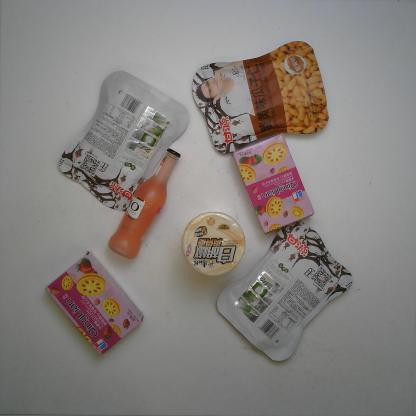Alcohol: (109, 148, 182, 259)
Dessert: (44, 250, 145, 356), (231, 132, 315, 235)
Dried Fruit: (58, 70, 191, 216), (216, 220, 352, 361), (188, 41, 331, 156)
Instant Noodles: (182, 211, 246, 276)
